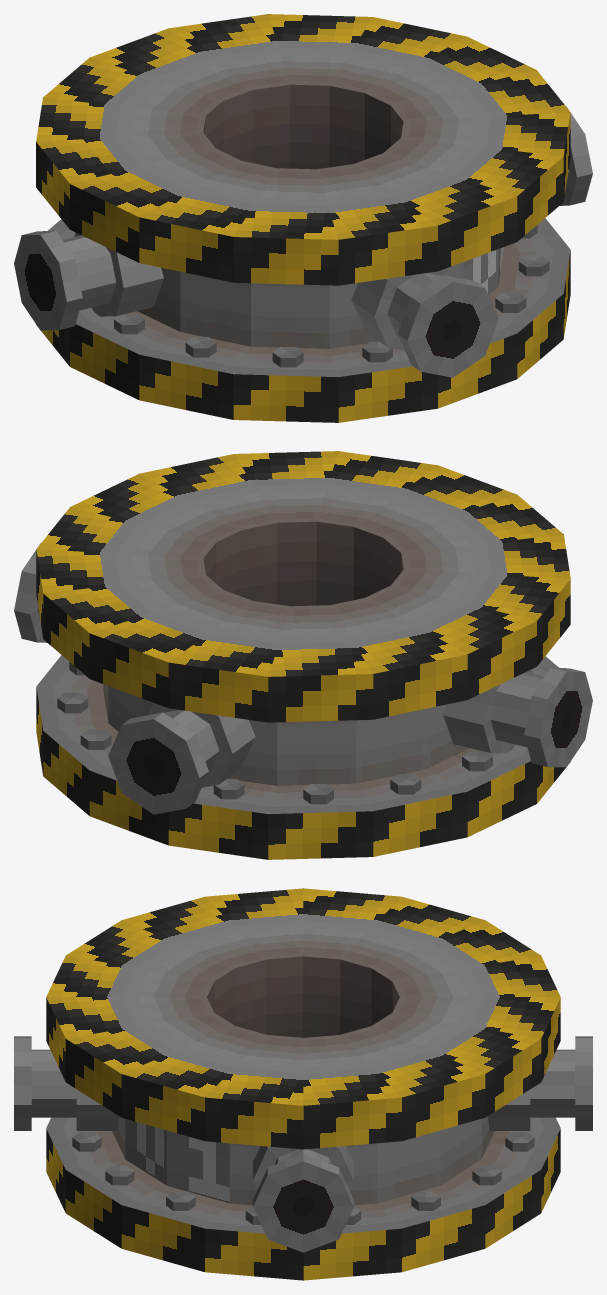
The model's file is mud_cross.gltf.
3 renders of one model, top to bottom at view 1: azimuth 30°, elevation 25°; view 2: azimuth 150°, elevation 25°; view 3: azimuth 270°, elevation 25°, orthographic. The views are drawn at different scales.
Visible parts, largest first — view 1: Цилиндр, nearZ.001, nearZ.003, Цилиндр.025, nearZ.004; view 2: Цилиндр, nearZ.002, nearZ.003, Цилиндр.025, nearZ.004; view 3: Цилиндр, nearZ.004, nearZ.001, nearZ.002, Цилиндр.025.
Boxes of the visible parts, x1,y1,x2,y2 form: Цилиндр: [36, 14, 570, 422]; nearZ.001: [351, 266, 498, 377]; nearZ.003: [14, 231, 163, 330]; Цилиндр.025: [114, 225, 549, 367]; nearZ.004: [559, 106, 592, 205]; Цилиндр: [36, 451, 570, 859]; nearZ.002: [108, 703, 255, 814]; nearZ.003: [443, 668, 592, 767]; Цилиндр.025: [57, 662, 492, 804]; nearZ.004: [14, 543, 46, 642]; Цилиндр: [46, 888, 560, 1280]; nearZ.004: [253, 1146, 353, 1252]; nearZ.001: [14, 1036, 118, 1130]; nearZ.002: [488, 1036, 592, 1130]; Цилиндр.025: [72, 1132, 534, 1224].
Bounding box in the file's own units: 3.01 × 0.9996 × 3.
1 material, 1 textured.
